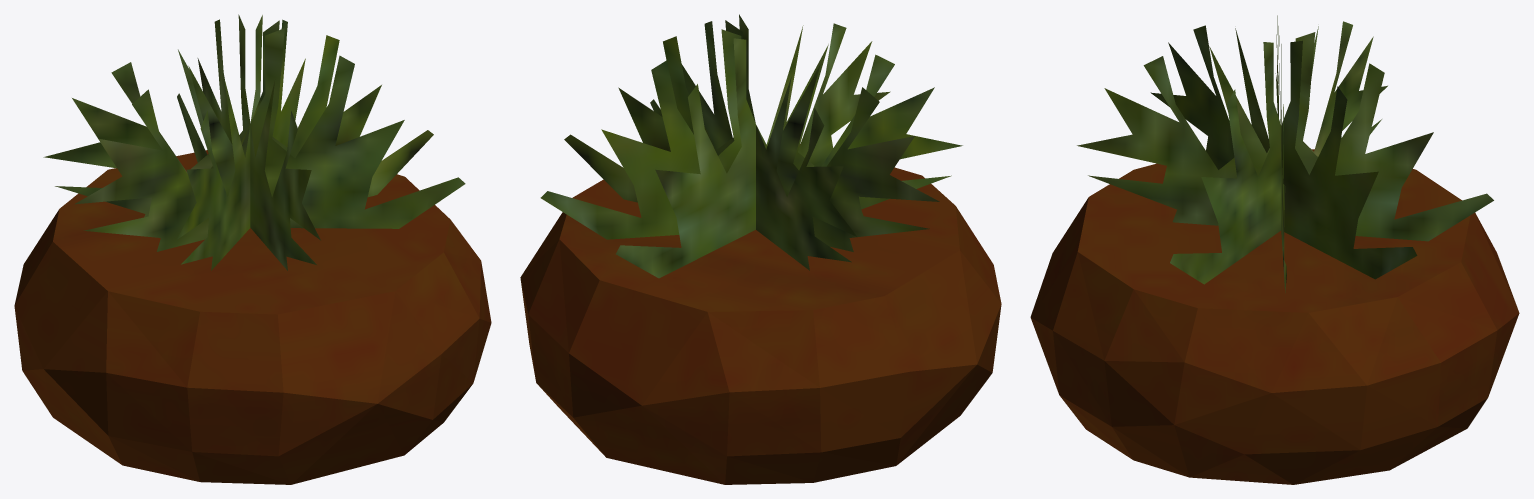
The model's file is plant1.dae.
The picture shows the model from 3 angles, left to right: view 1: azimuth 30°, elevation 25°; view 2: azimuth 150°, elevation 25°; view 3: azimuth 270°, elevation 25°; orthographic projection.
Parts seen in each view (by area): view 1: node; view 2: node; view 3: node.
Boxes of the visible parts, x1,y1,x2,y2 form: node: (14, 14, 491, 484); node: (520, 14, 1001, 484); node: (1030, 15, 1519, 484).
Size of the model in its own units: 0.22 by 0.187 by 0.2226.
Materials: 1 (1 with a texture image).
